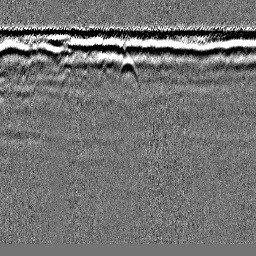cavity: (116, 56, 141, 90)
